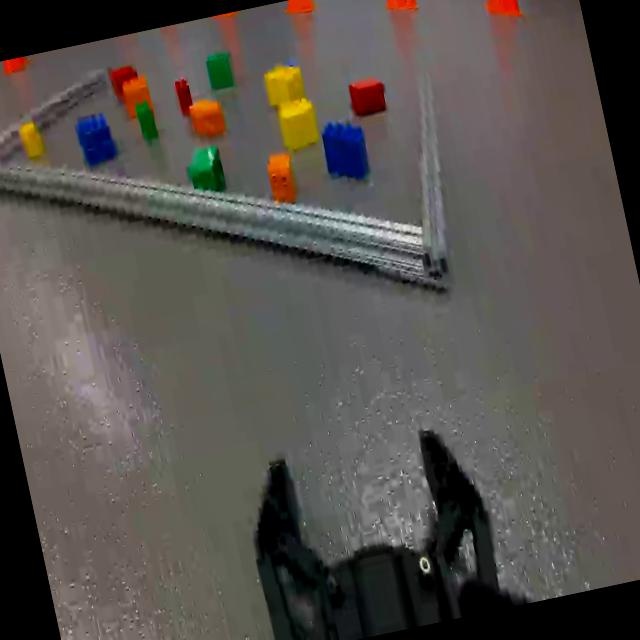block: (262, 62, 308, 108), (278, 100, 320, 148), (18, 121, 44, 158)
blue: (318, 116, 372, 182), (73, 112, 119, 162)
cone: (476, 0, 521, 22), (2, 55, 30, 80), (383, 0, 420, 17), (283, 0, 315, 16), (213, 11, 236, 21)
green: (182, 144, 228, 198), (205, 50, 237, 88), (134, 100, 158, 140)
metal barrier: (0, 3, 477, 384)
orange: (266, 153, 298, 206), (187, 95, 226, 136), (122, 76, 152, 116)
red goal: (348, 76, 387, 115), (108, 64, 142, 102), (173, 77, 195, 115)
